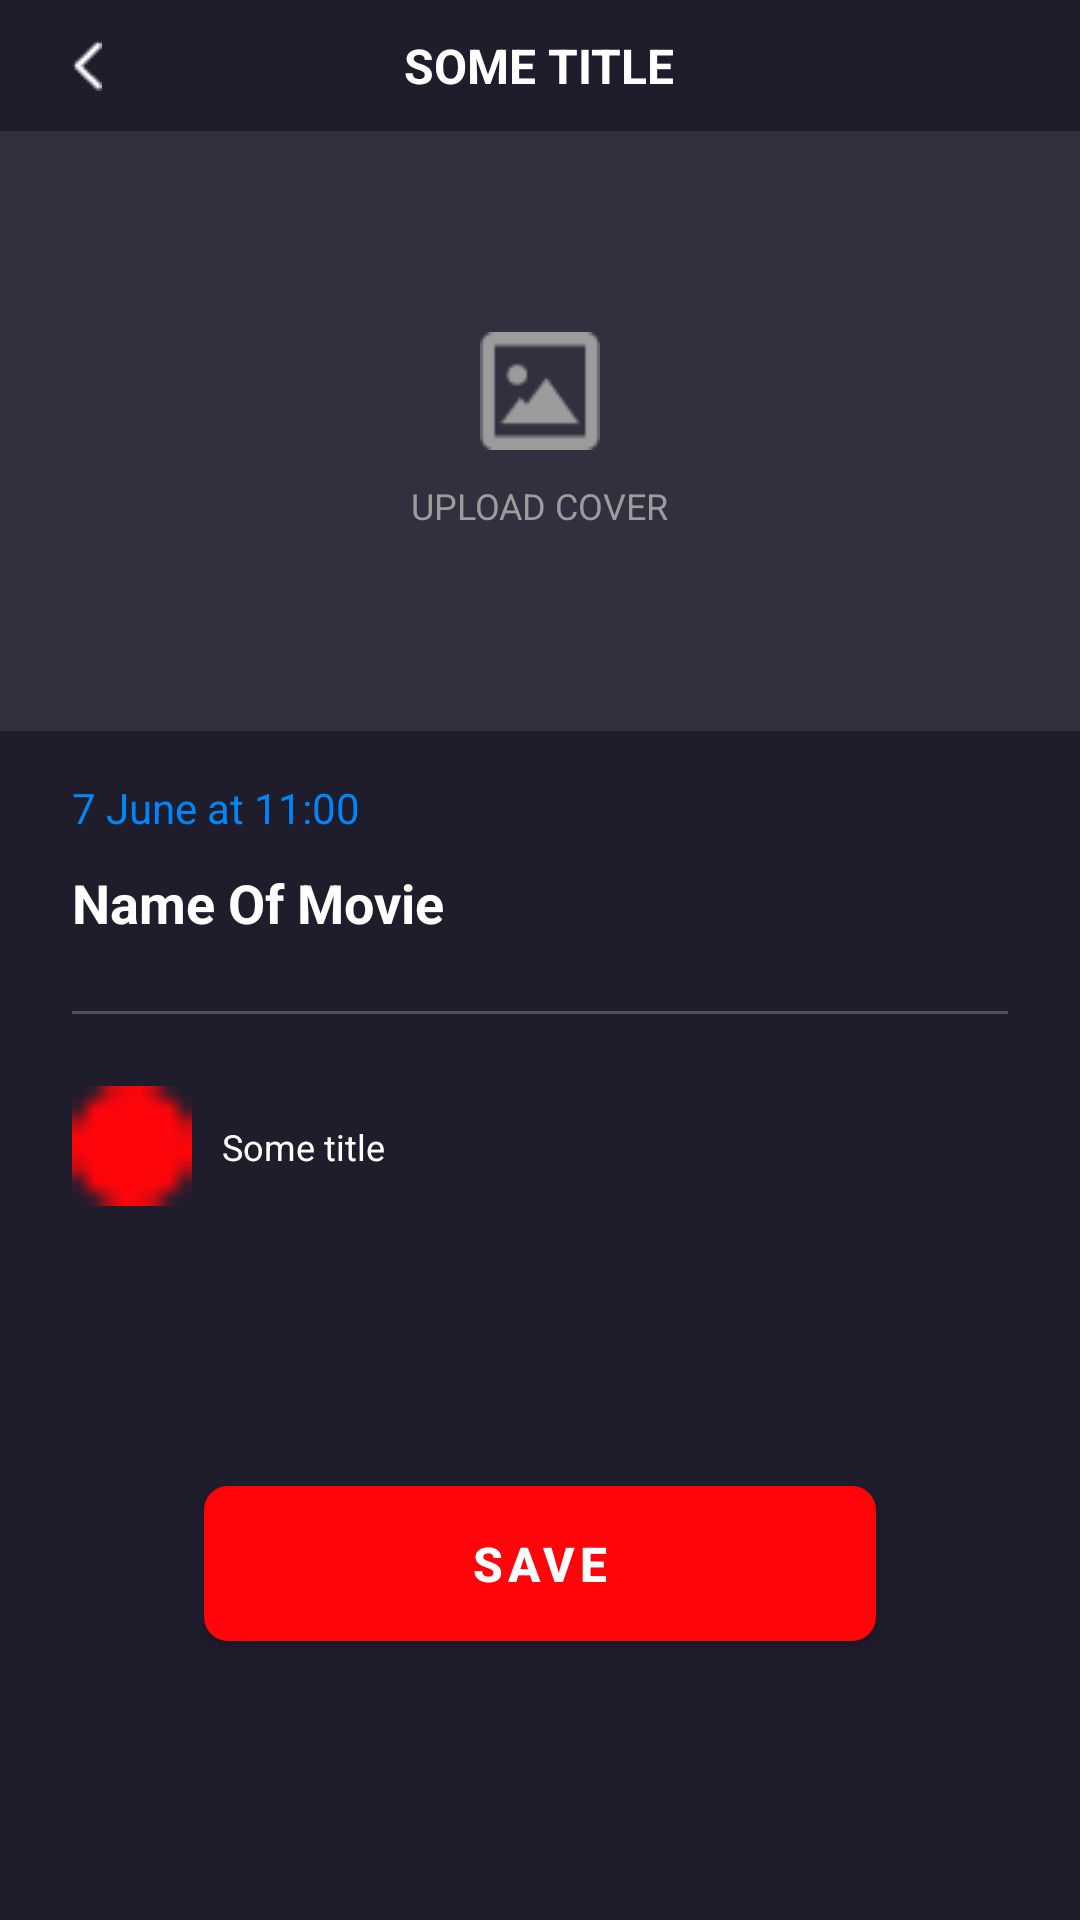

Screen size 1080×1920. Icon name, then its box in pixels as rect(x1, y1, x2, y2):
back: rect(74, 42, 102, 91)
